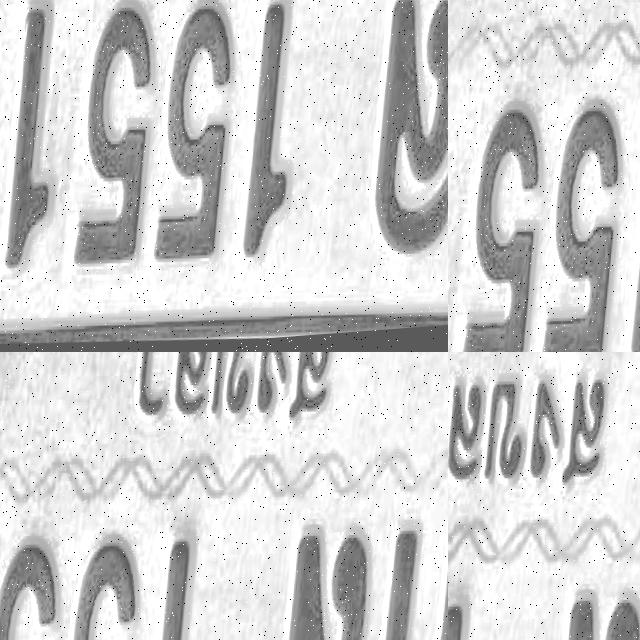license-plate: (448, 352, 640, 640)
